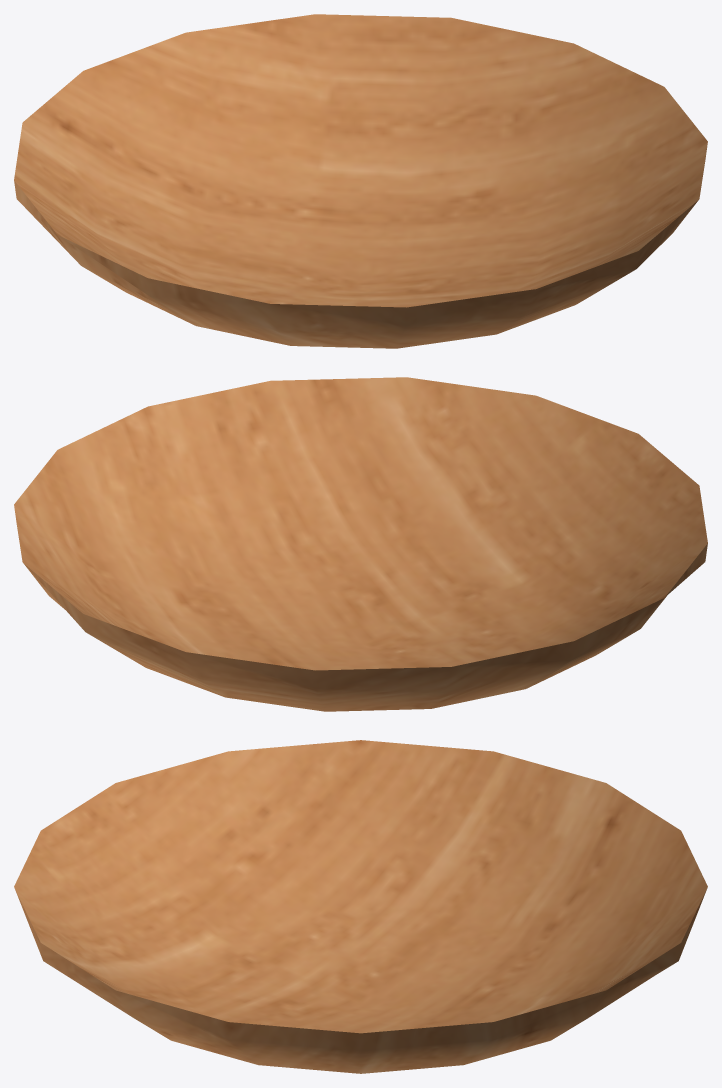
Rendered from M_Home_Garden_Bowl_01.fbx.
3 views of the same model, one above another, from view 1: azimuth 30°, elevation 25°; view 2: azimuth 150°, elevation 25°; view 3: azimuth 270°, elevation 25° (orthographic).
Parts seen in each view (by area): view 1: M_Home_Garden_Bowl_01; view 2: M_Home_Garden_Bowl_01; view 3: M_Home_Garden_Bowl_01.
Part boxes in pixels (left/top/right/bottom): M_Home_Garden_Bowl_01: left=14, top=14, right=707, bottom=348; M_Home_Garden_Bowl_01: left=14, top=377, right=707, bottom=711; M_Home_Garden_Bowl_01: left=14, top=740, right=707, bottom=1073.
Bounding box in the file's own units: 53.2 × 10.48 × 53.2.
